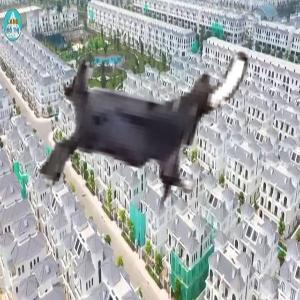drone: (23, 6, 255, 238)
